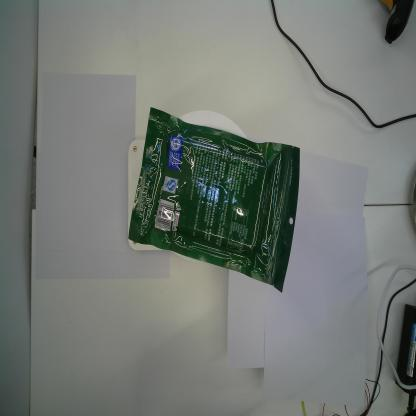Dried Food: (127, 107, 300, 293)
